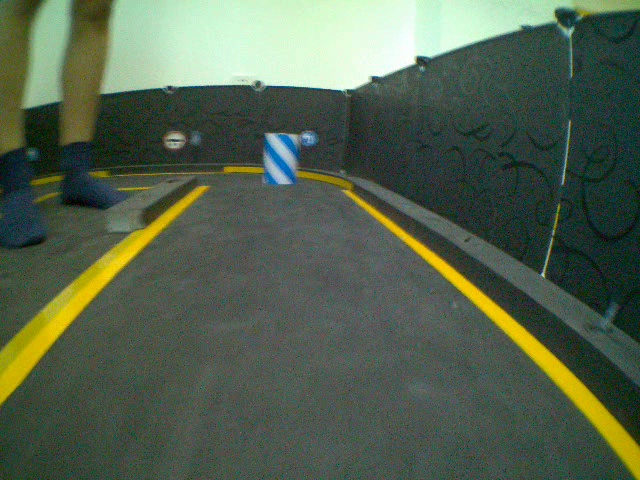bucket: (260, 129, 301, 194)
